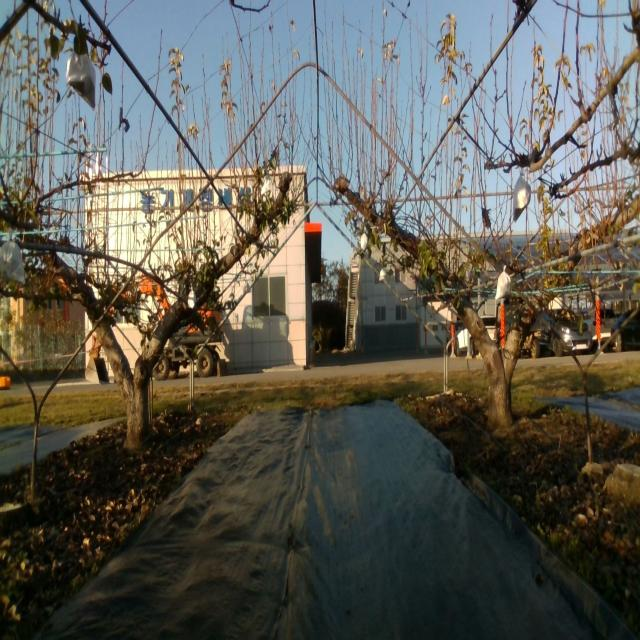pearbags: (66, 52, 96, 108), (0, 230, 26, 282), (512, 173, 532, 222), (495, 264, 512, 301), (260, 172, 274, 195)
